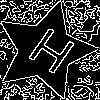H: (20, 26, 78, 84)
